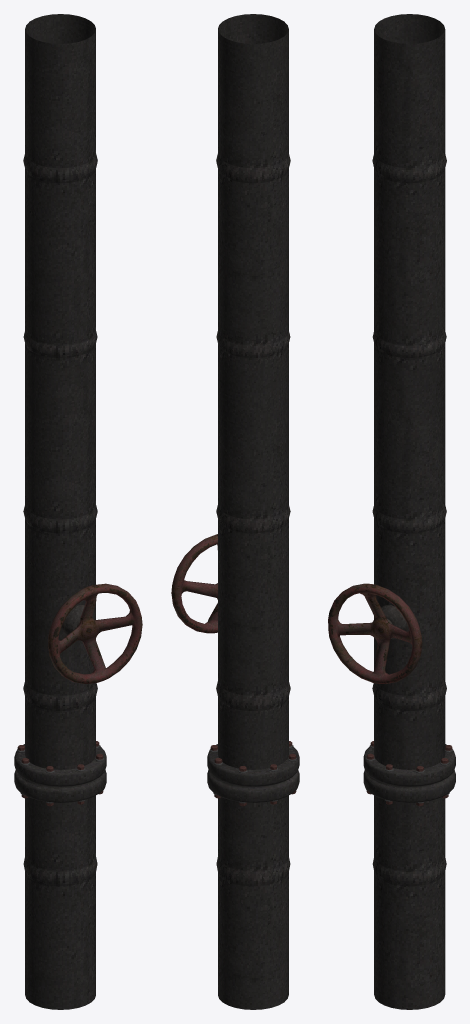
File: pipe_2.glb
3 views of the same model, side by side, from view 1: azimuth 30°, elevation 25°; view 2: azimuth 210°, elevation 25°; view 3: azimuth 330°, elevation 25° (orthographic).
Parts seen in each view (by area): view 1: pipe_2, valve_1; view 2: pipe_2, valve_1; view 3: pipe_2, valve_1.
Boxes of the visible parts, x1,y1,x2,y2 form: pipe_2: (14,14,106,1009); valve_1: (48,583,142,683); pipe_2: (207,14,299,1009); valve_1: (171,534,217,633); pipe_2: (363,14,455,1009); valve_1: (328,583,422,683).
Size of the model in its own units: 0.2986 by 3 by 0.34.
5 materials, 5 textured.
